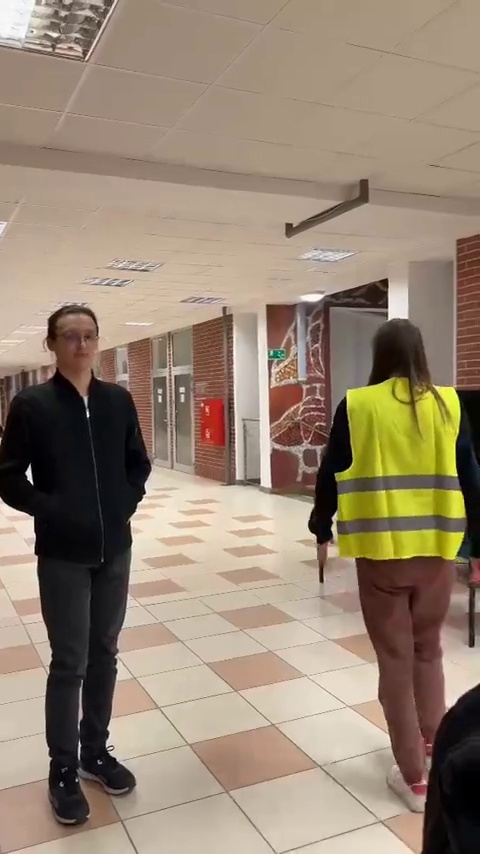no vest: (12, 302, 154, 827)
vest: (301, 316, 480, 804)
